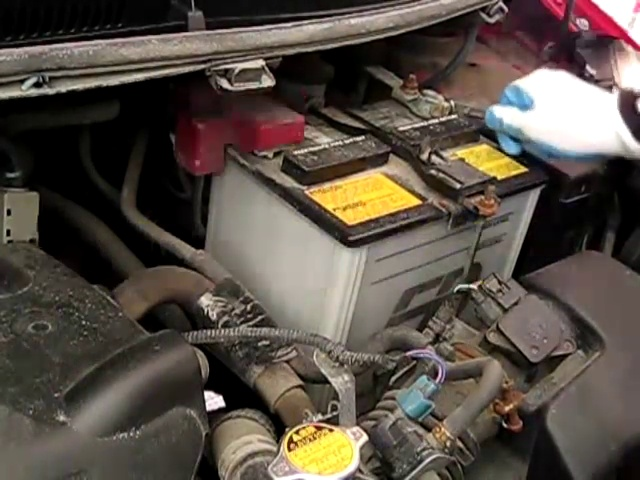battery: (187, 80, 557, 244)
neg_connected: (388, 68, 463, 128)
pos_connected: (185, 100, 321, 183)
